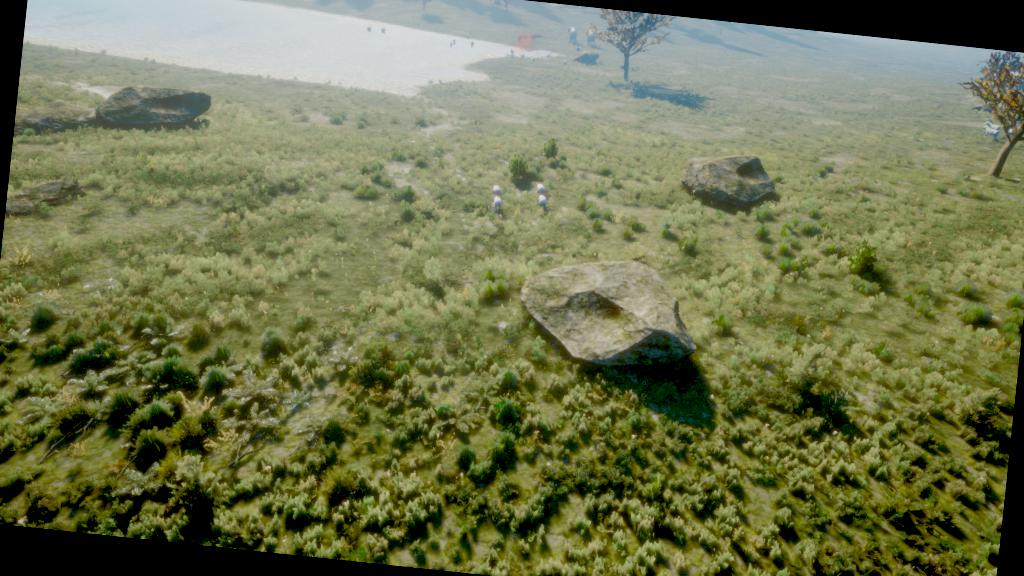Fire: (519, 32, 531, 48)
pig: (489, 190, 510, 211), (536, 190, 552, 208)
